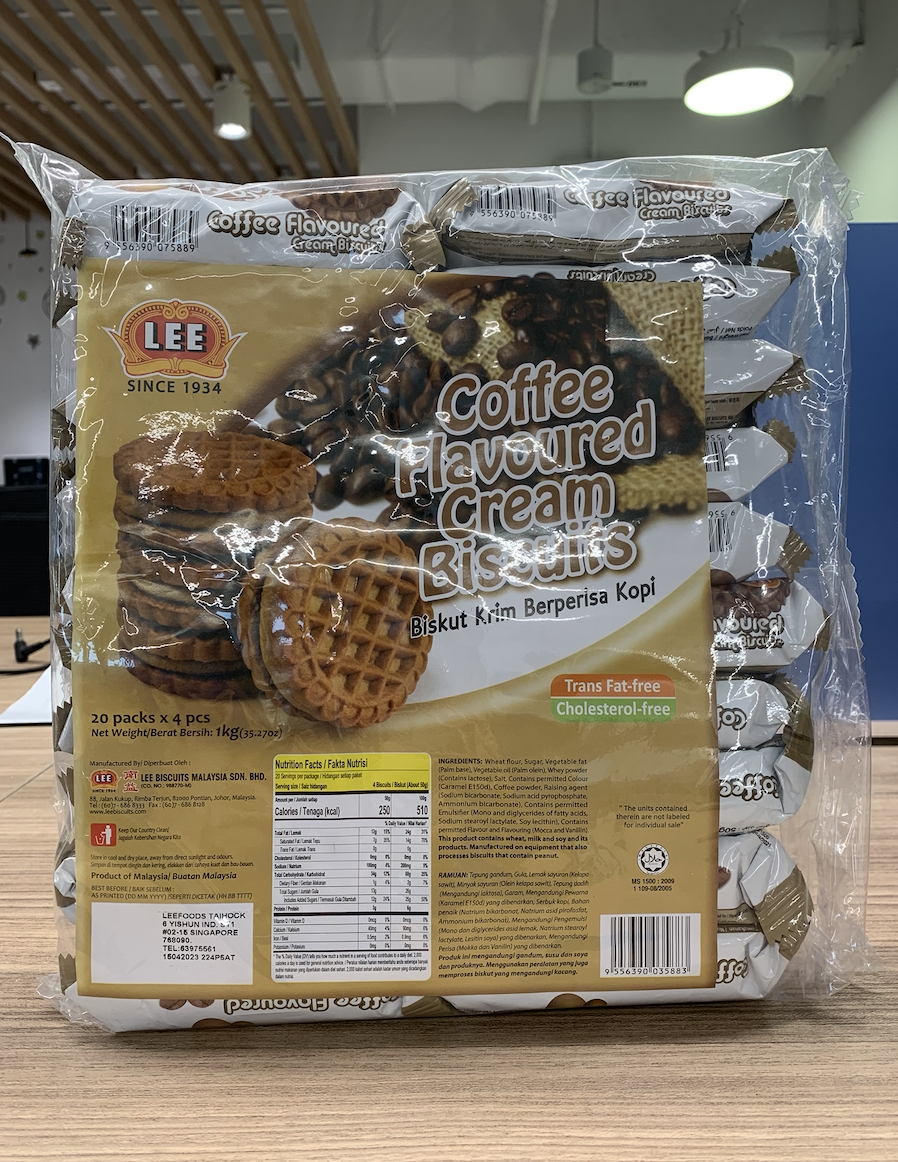cookies_1500g: (60, 191, 810, 998)
